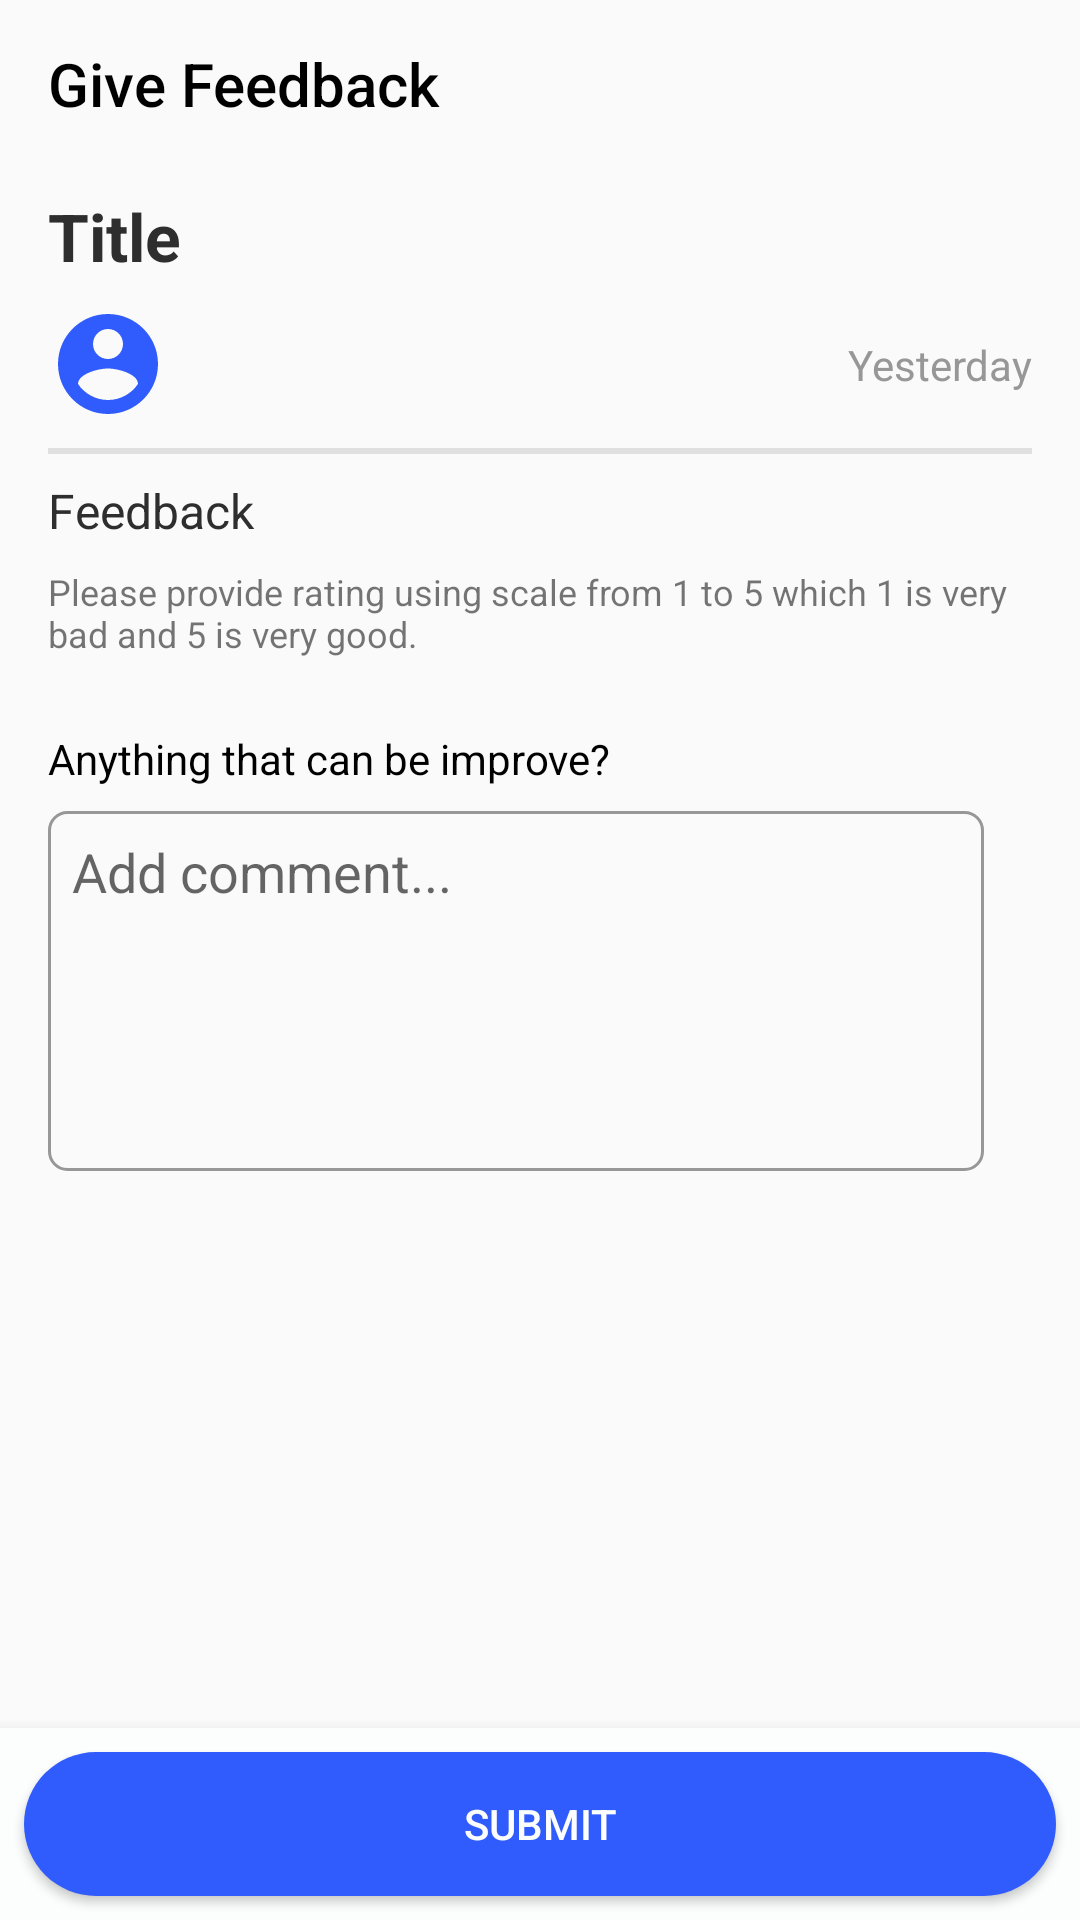

Where icons sit on this 1080 x 1920 app screen, as (x1=x1, y1=y1, x2=x2, y2=y2):
profile: (x1=58, y1=314, x2=158, y2=414)
